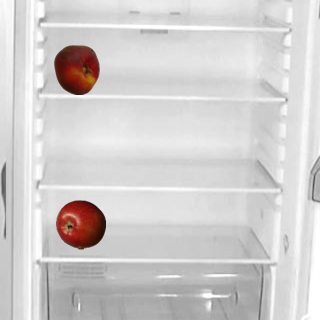Apple Braeburn: (55, 199, 105, 249)
Nectarine Flat: (51, 44, 101, 94)
